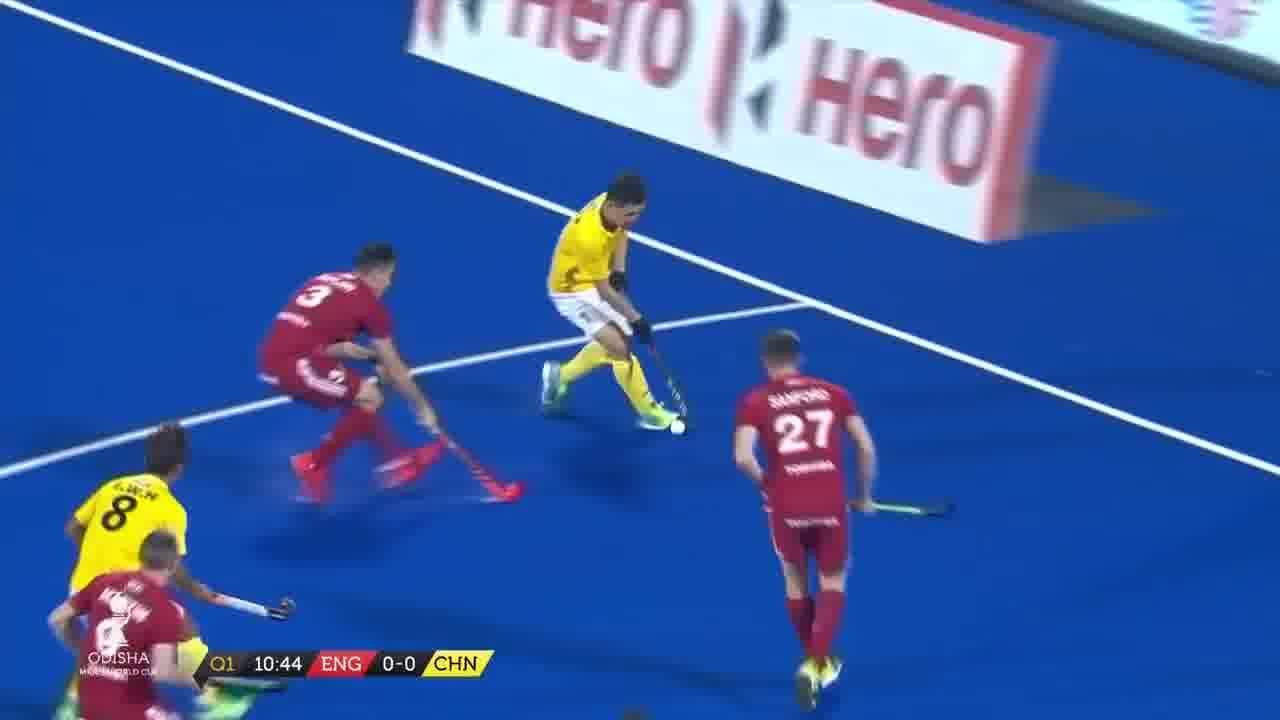ball: (666, 408, 689, 446)
